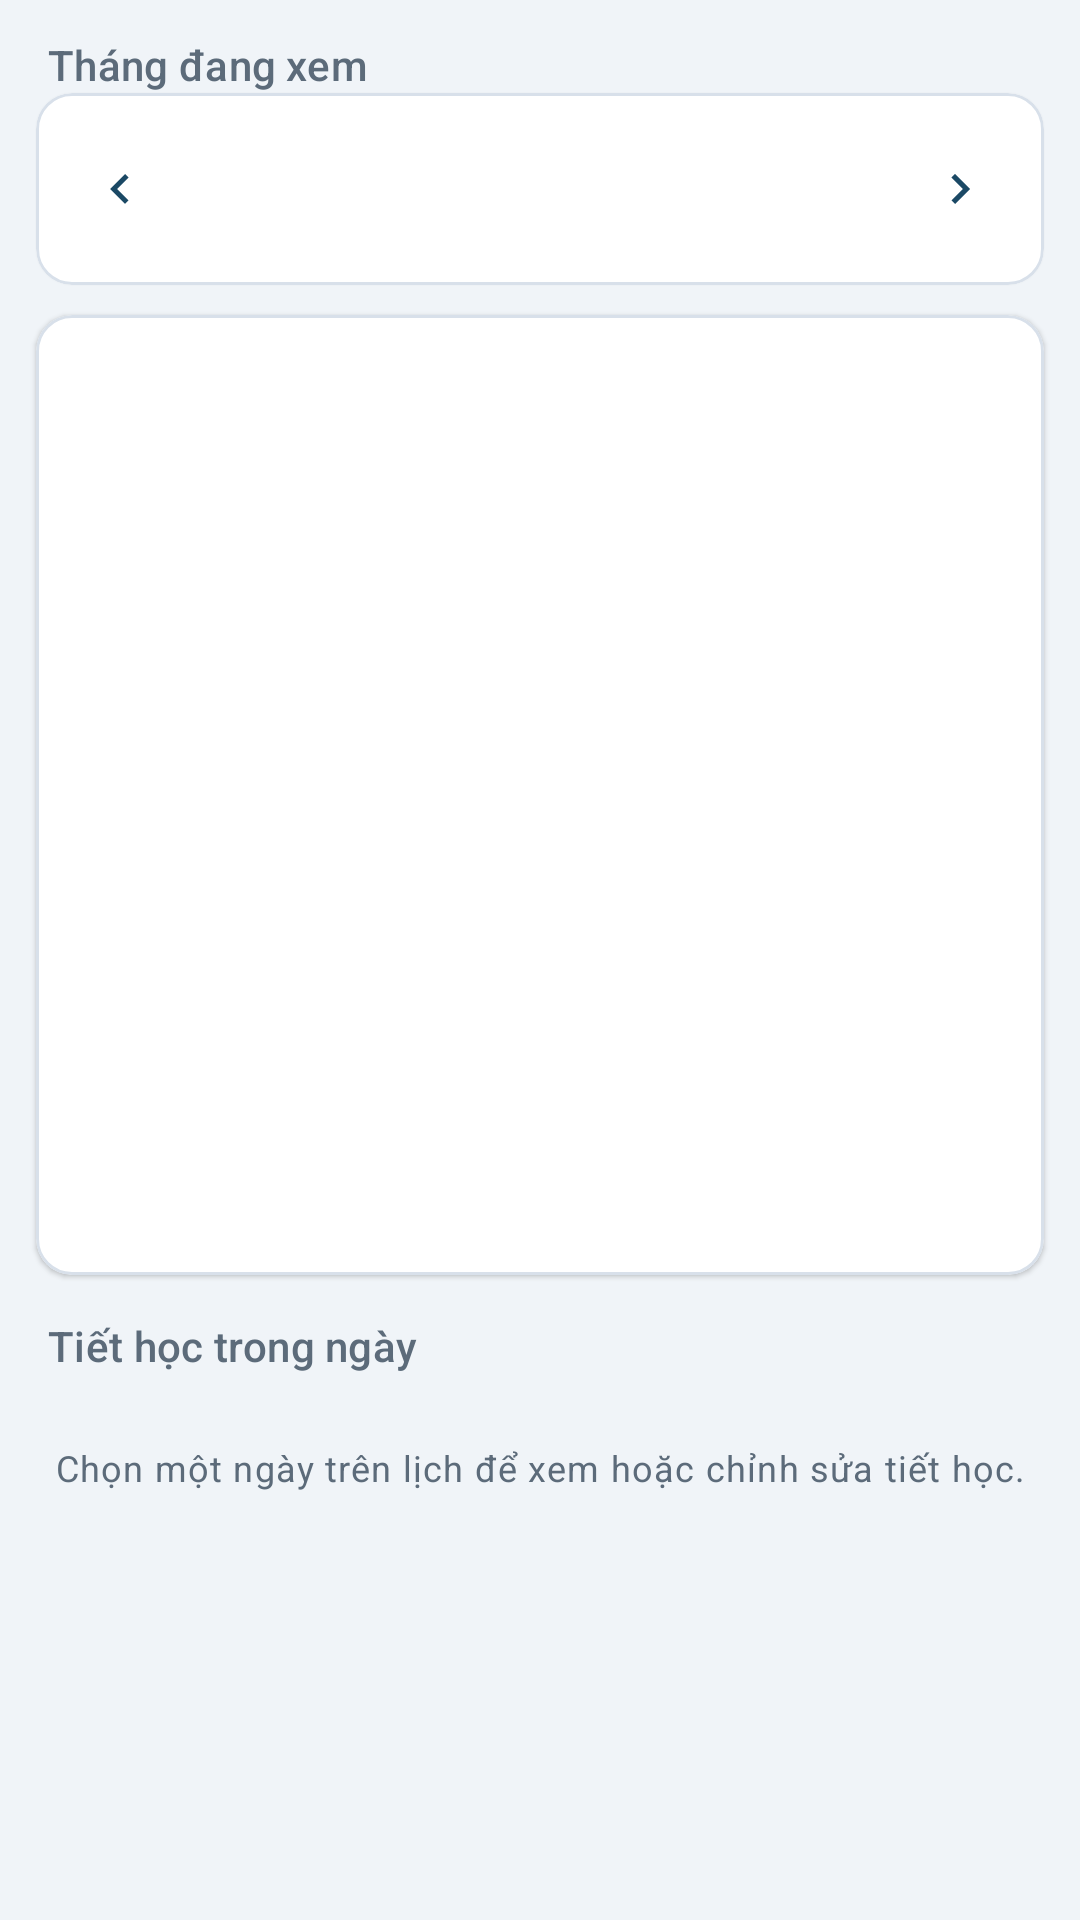

Screen size 1080px×1920px. Icon name, then its center in pixels as (x,y):
next: (960,189)
prev: (119,189)
